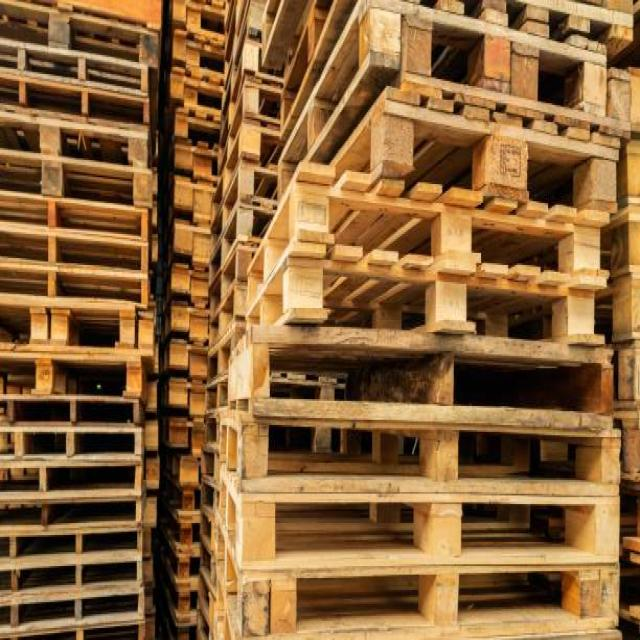Wooden-Pallets: (4, 3, 638, 636), (243, 318, 614, 433), (281, 149, 603, 281), (238, 403, 627, 497), (368, 69, 621, 211), (237, 478, 627, 566), (241, 554, 632, 640), (397, 3, 610, 110)
